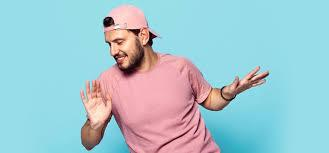cap: (101, 3, 163, 39)
